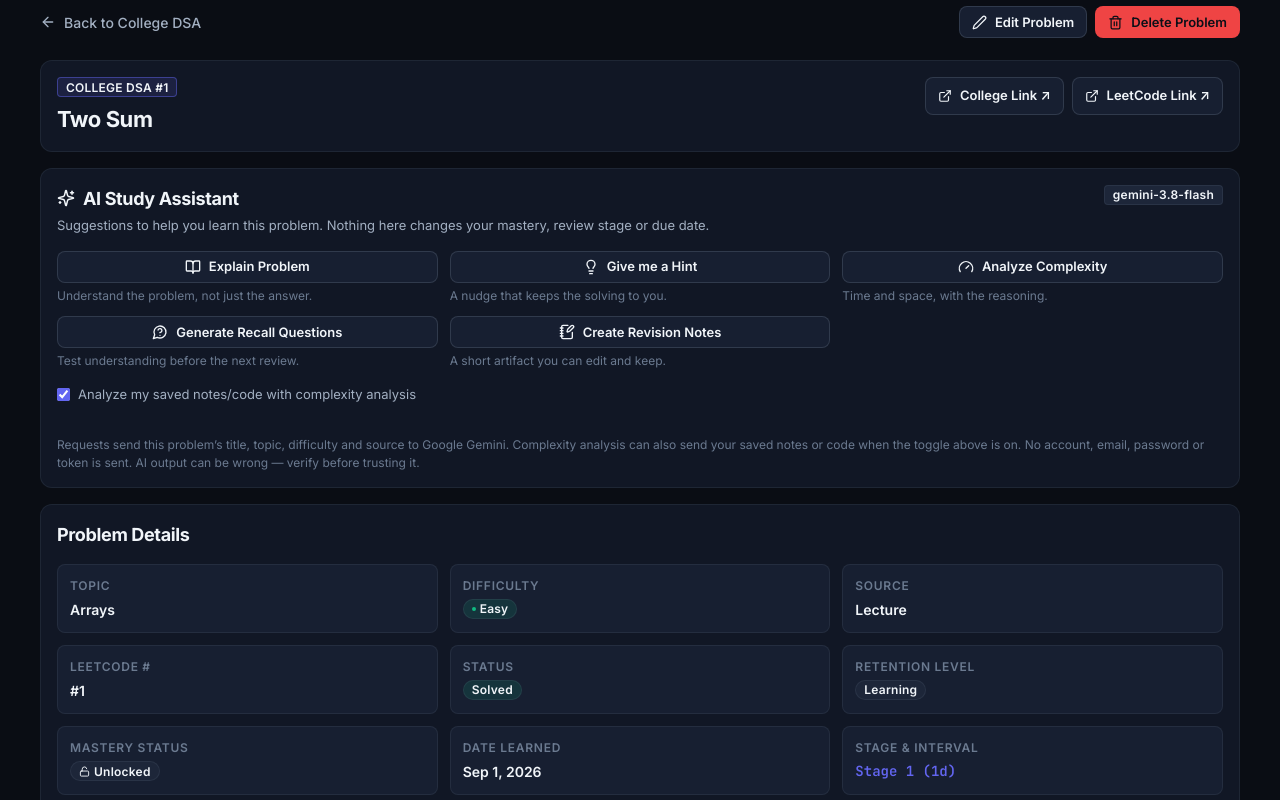
Problem Detail (Phase 7) › AI assistance integration (Phase 2B) › handles progressive hints (L1 -> L2) with explicit level selection and without solution dumps
Expected: the heading "Two Sum" is shown, [57,106,152,132]
Click the button "Give me a Hint". click: (640, 266)
box: [450,250,830,282]
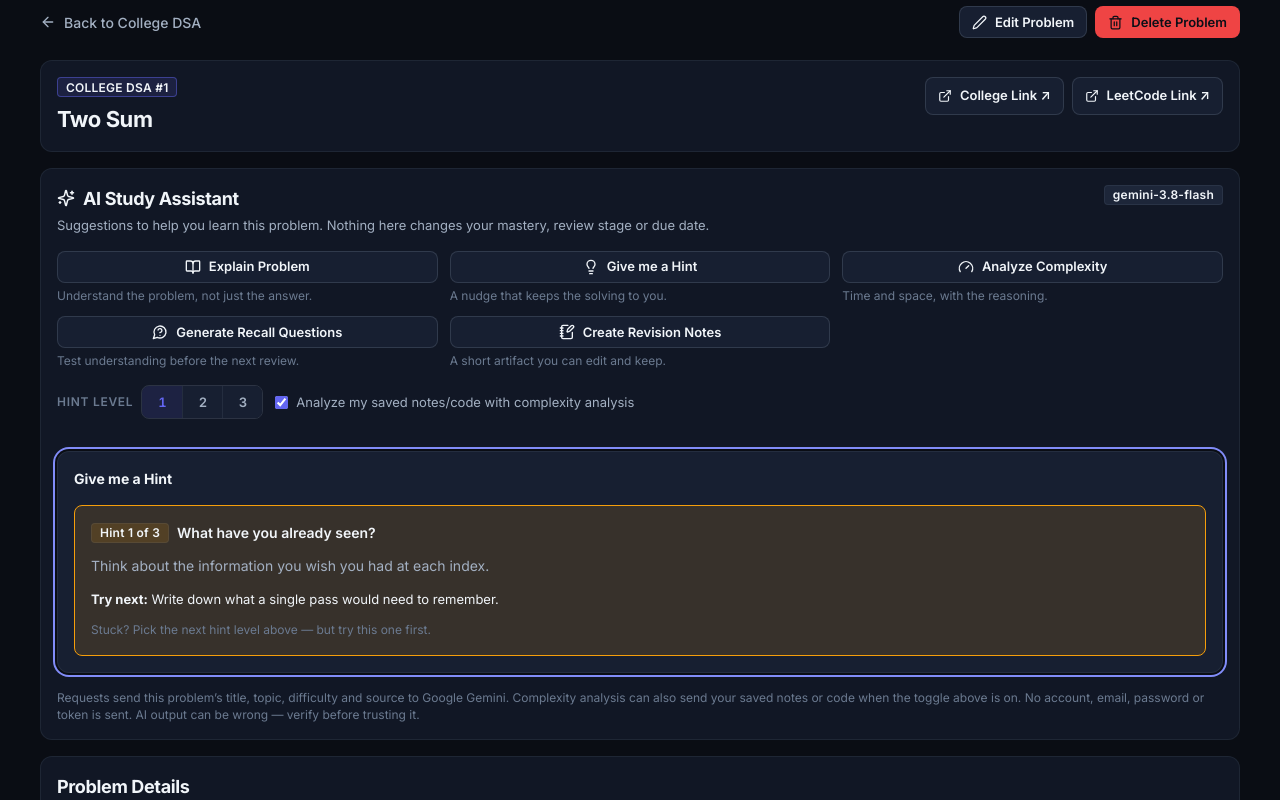
Now the text "Hint 1 of 3" is shown, box [91,523,169,543]
Now the text "Think about the information you wish you had at each index." is shown, box [91,557,489,574]
# Escalate to level 2
Click the button "2". click: (202, 402)
box: [182,386,222,418]
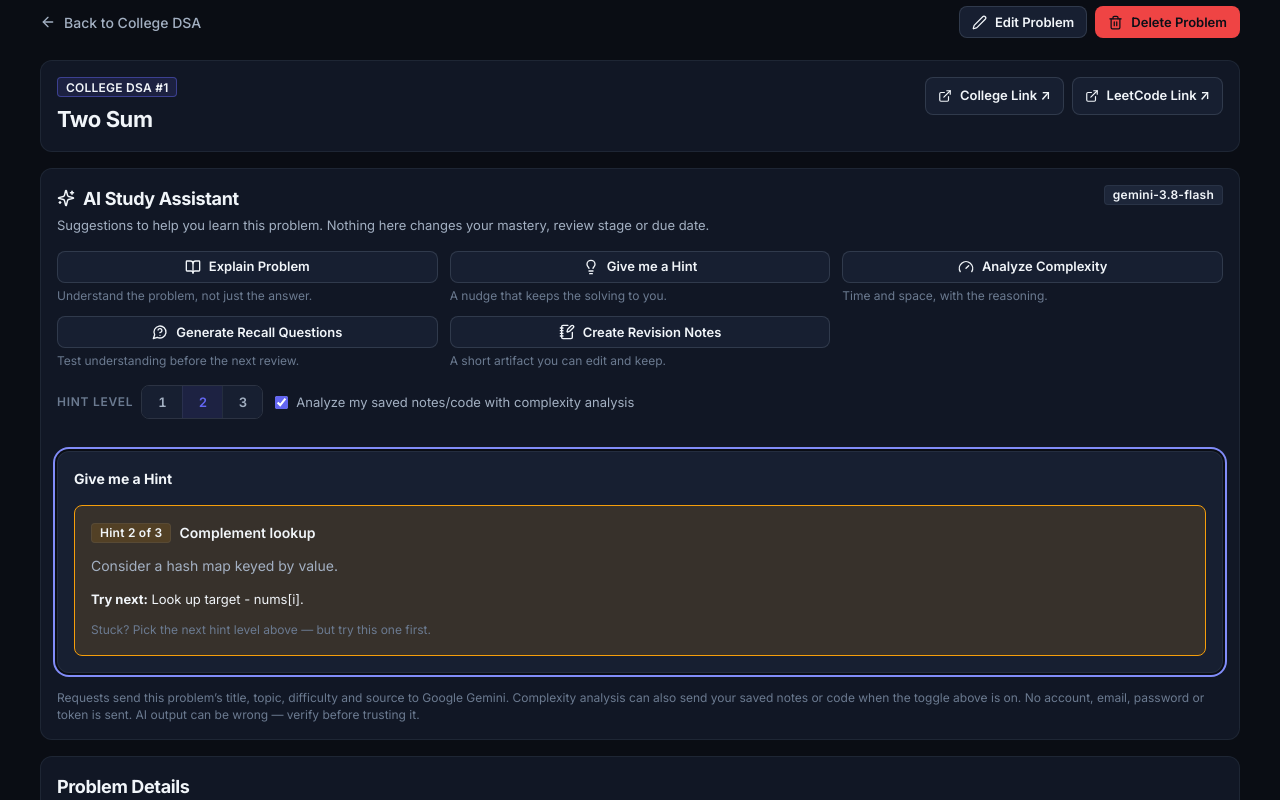
Now the text "Hint 2 of 3" is shown, box [91,523,172,543]
Now the text "Consider a hash map keyed by value." is shown, box [91,557,338,574]
